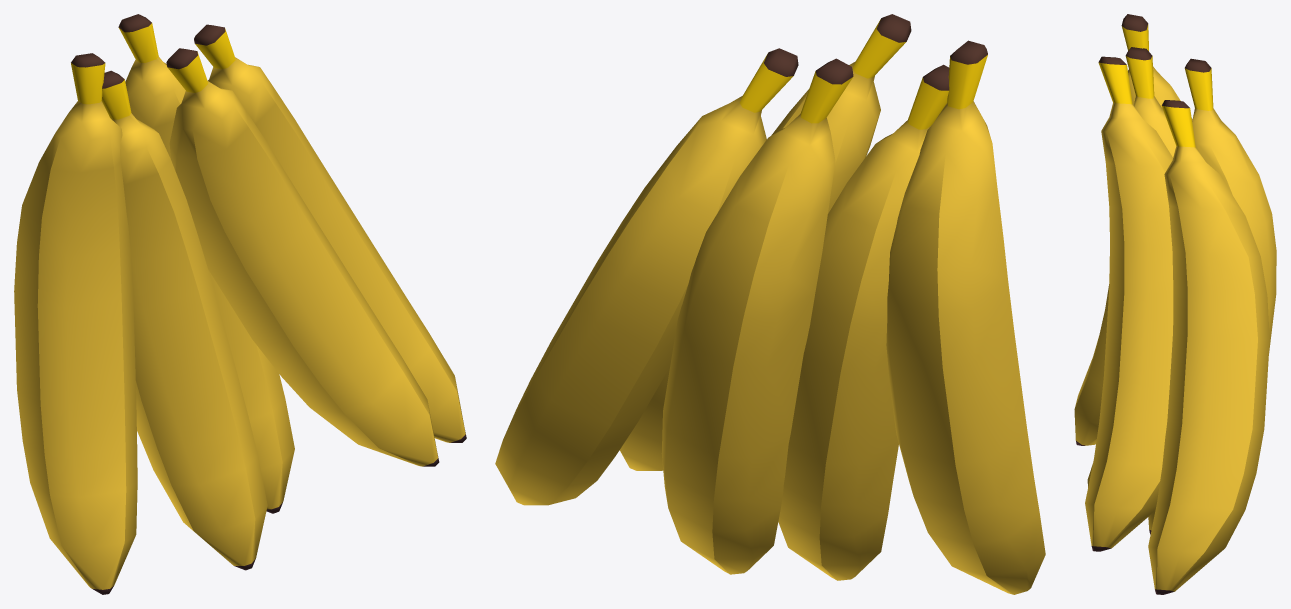
The model's file is Bananas.fbx.
3 renders of one model, left to right at view 1: azimuth 30°, elevation 25°; view 2: azimuth 150°, elevation 25°; view 3: azimuth 270°, elevation 25°, orthographic. The views are drawn at different scales.
Parts seen in each view (by area): view 1: Bananas; view 2: Bananas; view 3: Bananas.
Boxes of the visible parts, box(x1,y1,x2,y2) form: Bananas: box(14, 14, 466, 594); Bananas: box(495, 14, 1045, 594); Bananas: box(1074, 14, 1276, 594).
Size of the model in its own units: 188 by 214 by 87.21.
1 material, 1 textured.
